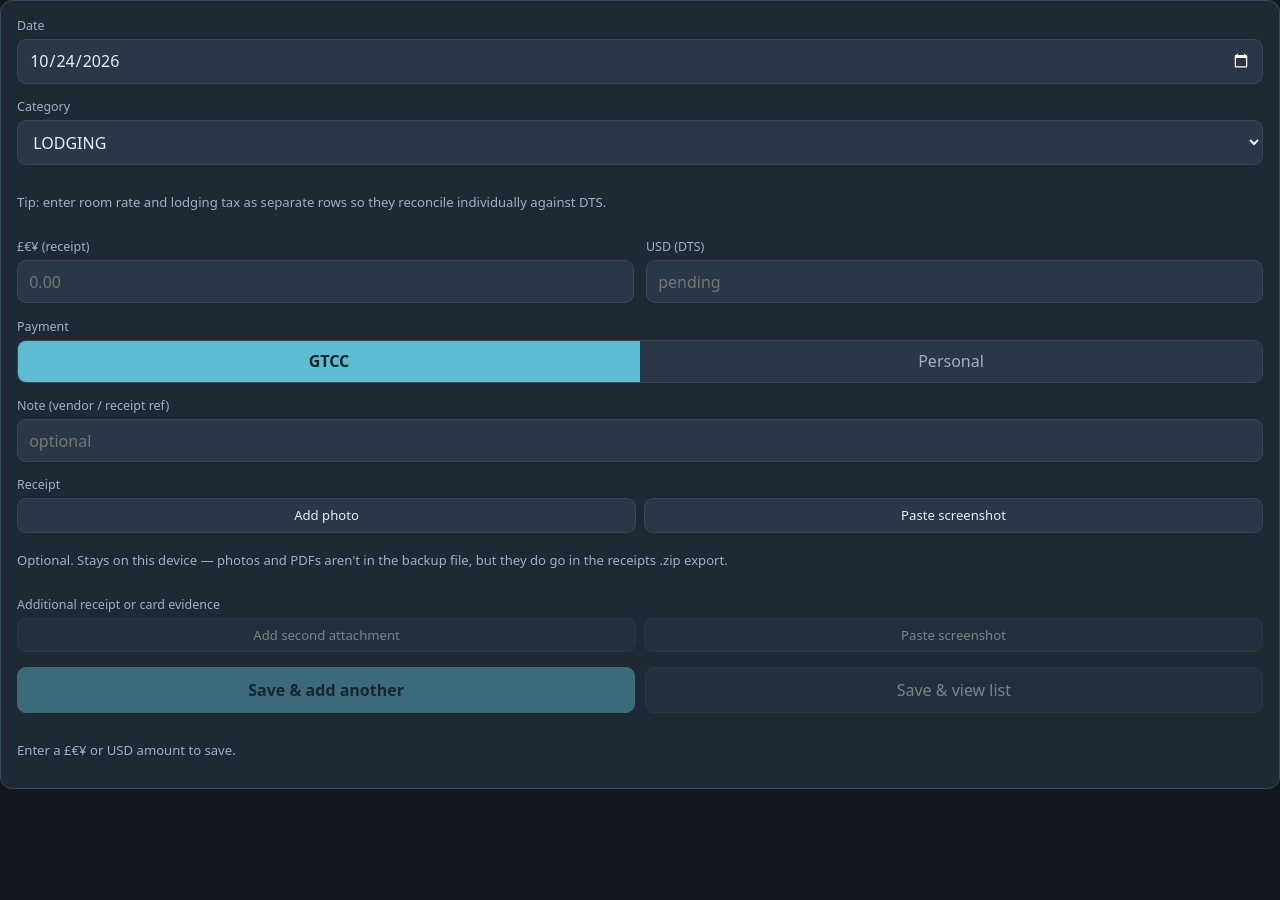
it: EntryForm › cannot save until a foreign-currency or USD amount is entered
Expected: the button "Save & add another" is disabled, 17,667 -> 635,713
Type "80" into the number field labelled "£€¥ (receipt)" at [326, 282], box 17,260 -> 634,303
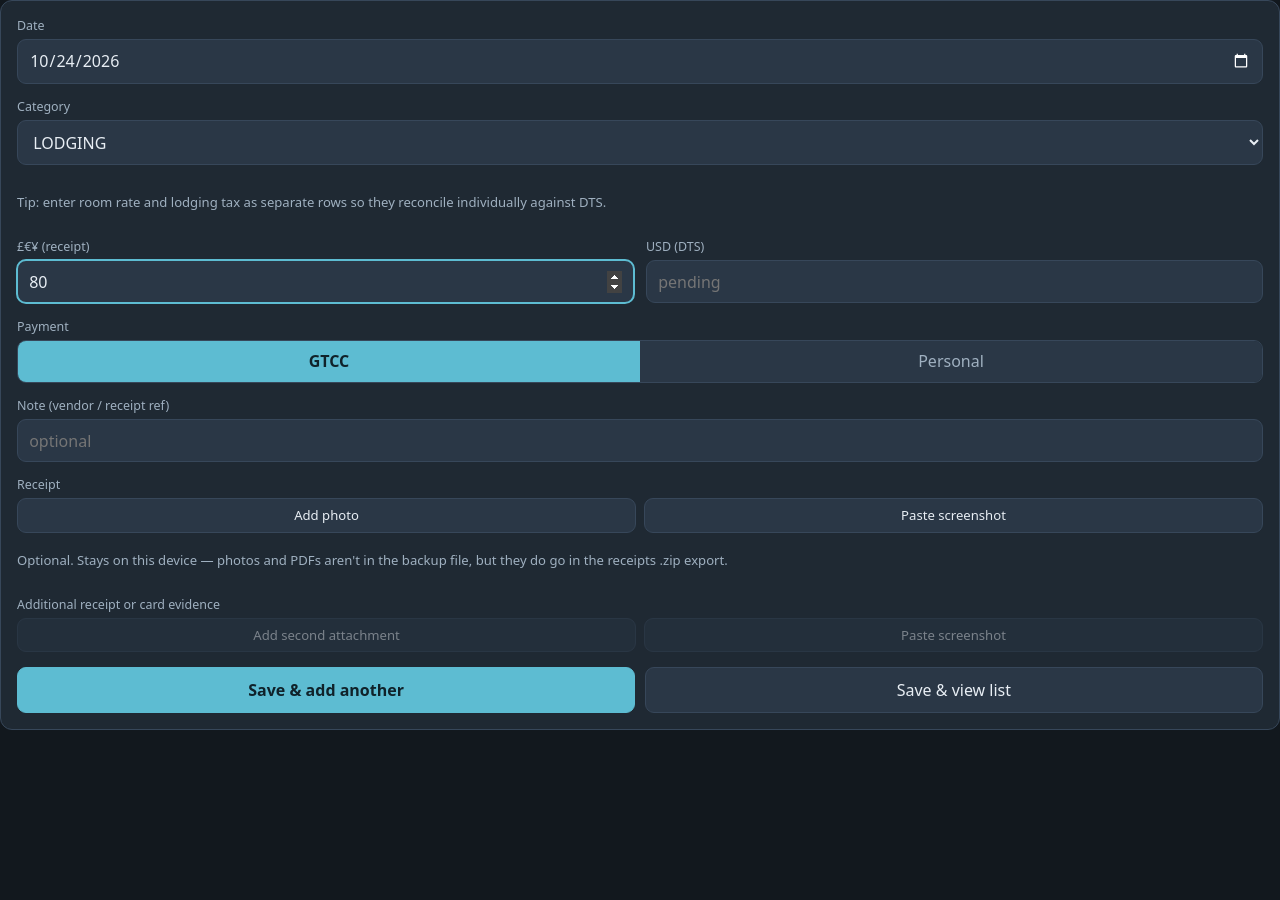
Expected: the button "Save & add another" is enabled, 17,667 -> 635,713
